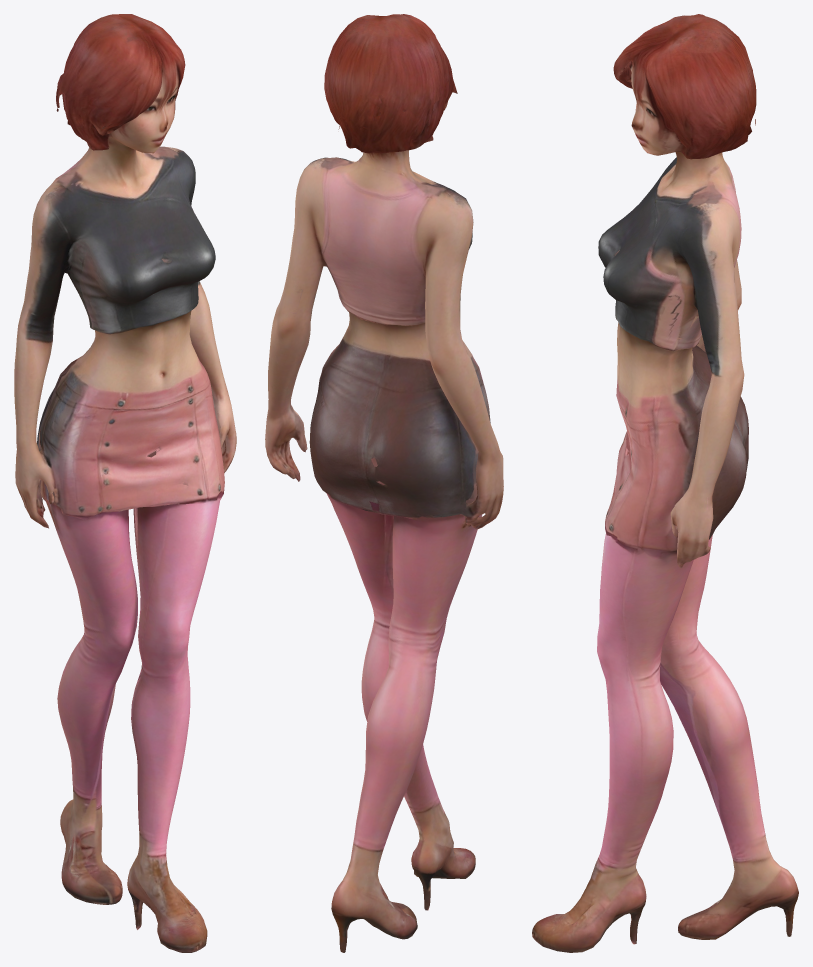
File: triad_leader_women.glb
The picture shows the model from 3 angles, left to right: view 1: azimuth 30°, elevation 25°; view 2: azimuth 150°, elevation 25°; view 3: azimuth 270°, elevation 25°; orthographic projection. The views are drawn at different scales.
Visible parts, largest first — view 1: Object_4; view 2: Object_4; view 3: Object_4.
Boxes of the visible parts, x1=… form: Object_4: x1=14, y1=14, x2=236, y2=952; Object_4: x1=265, y1=14, x2=503, y2=952; Object_4: x1=532, y1=14, x2=798, y2=952.
Bounding box in the file's own units: 0.52 × 2.01 × 0.5224.
Materials: 1 (1 with a texture image).
